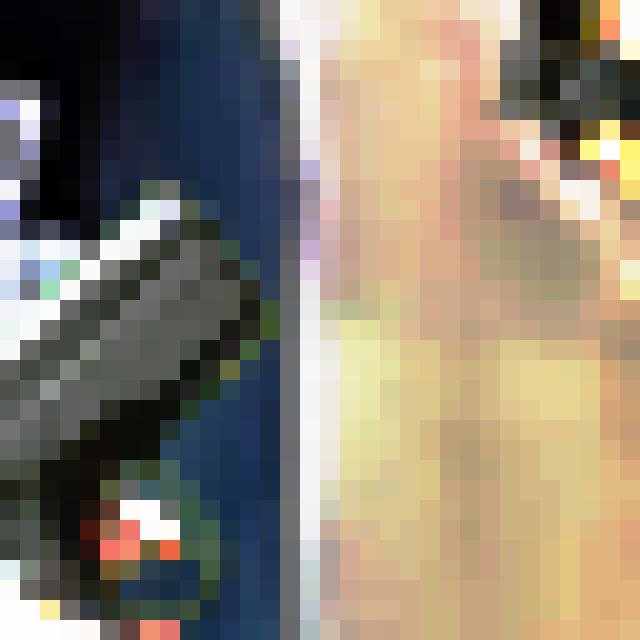arms: (0, 160, 320, 640), (480, 0, 640, 480)
